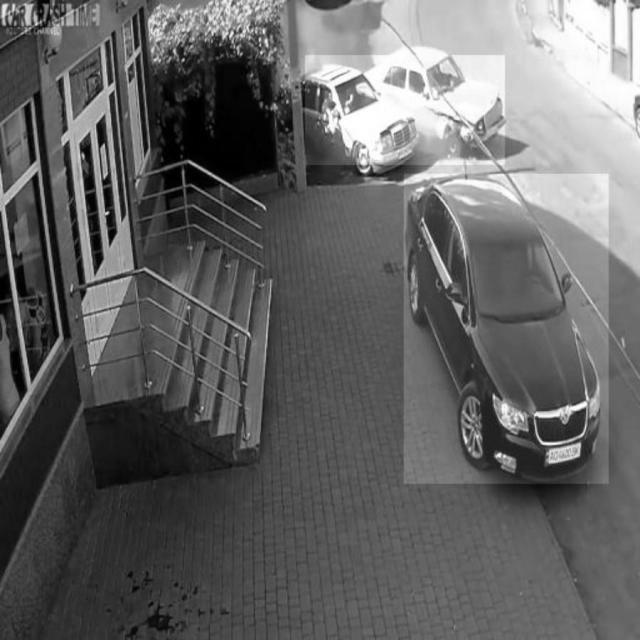accident: (306, 55, 506, 165)
vehicle: (404, 174, 609, 484)
